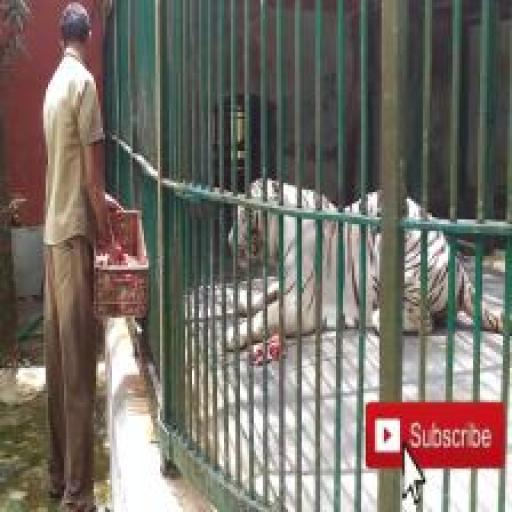Tiger: (224, 176, 511, 354)
